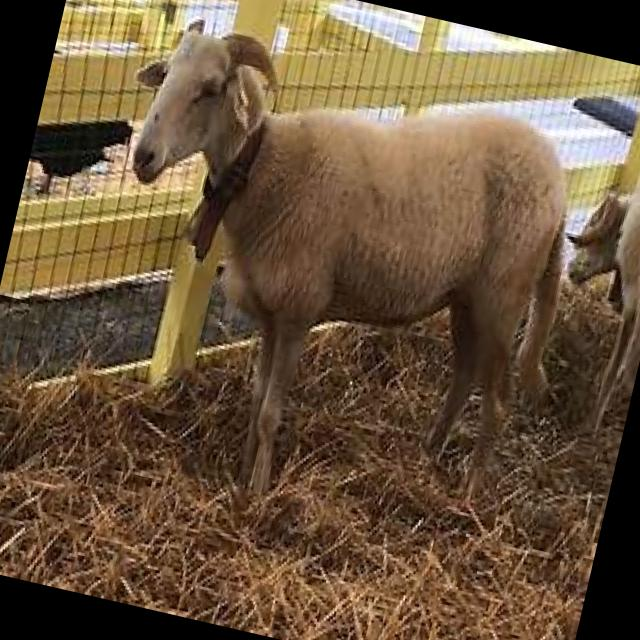animal: (47, 5, 611, 555), (522, 110, 640, 442)
